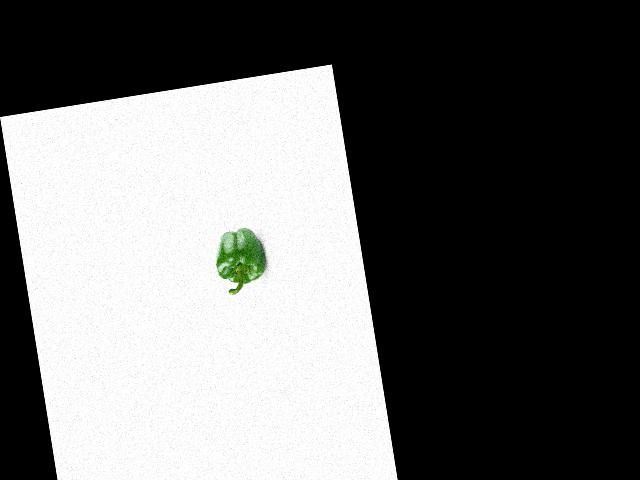bell_pepper: (210, 223, 269, 298)
